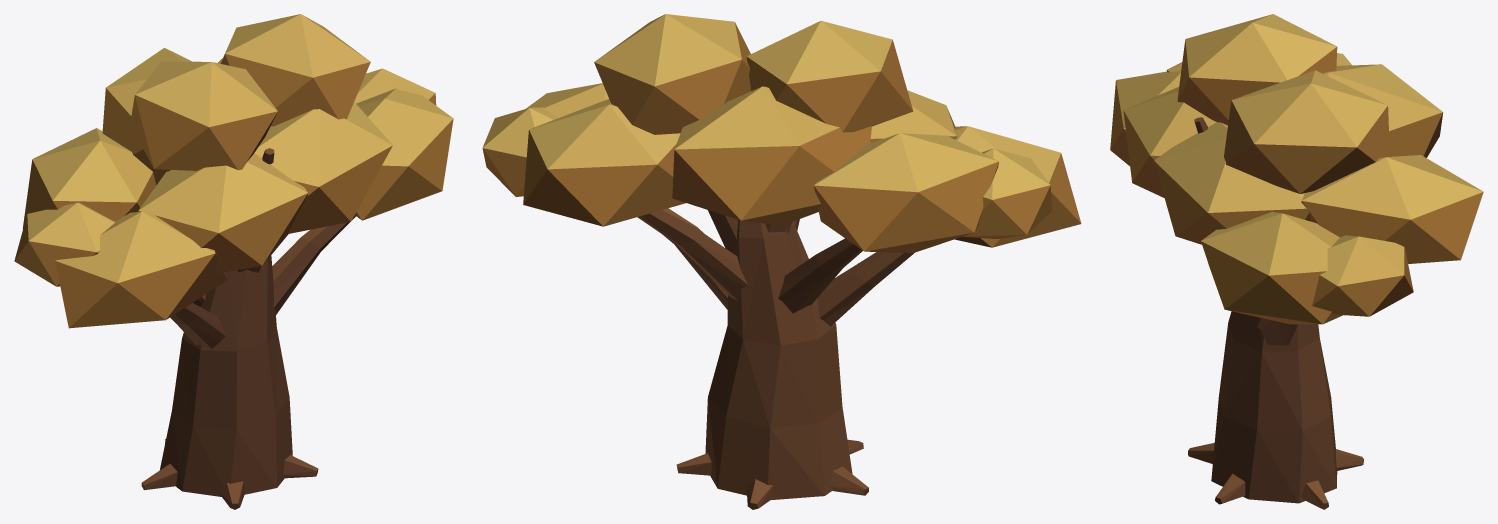
The picture shows the model from 3 angles, left to right: view 1: azimuth 30°, elevation 25°; view 2: azimuth 150°, elevation 25°; view 3: azimuth 270°, elevation 25°; orthographic projection. The views are drawn at different scales.
Visible parts, largest first — view 1: WK_Tree_Oak_GnarledAmber_LOD0_High; view 2: WK_Tree_Oak_GnarledAmber_LOD0_High; view 3: WK_Tree_Oak_GnarledAmber_LOD0_High.
Boxes of the visible parts, <box> form: WK_Tree_Oak_GnarledAmber_LOD0_High: <box>14,14,453,509</box>; WK_Tree_Oak_GnarledAmber_LOD0_High: <box>482,14,1081,509</box>; WK_Tree_Oak_GnarledAmber_LOD0_High: <box>1110,14,1483,509</box>.
Bounding box in the file's own units: 6.1 × 5.41 × 4.12.
